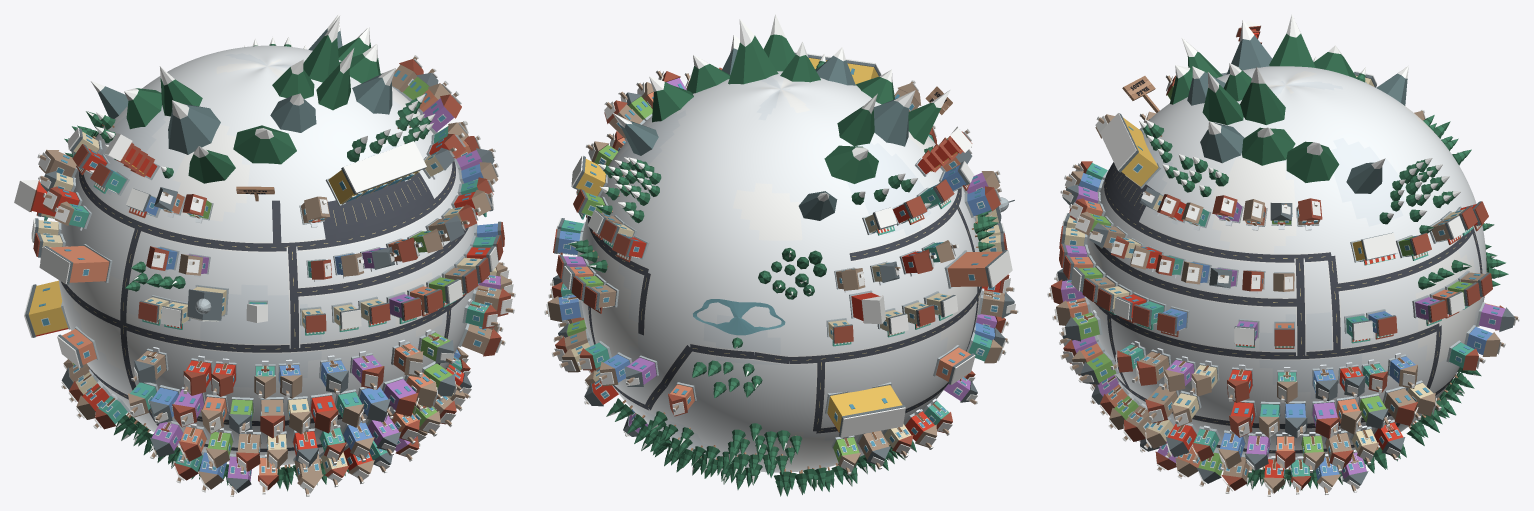
Rendered from southpark_planet.glb.
3 renders of one model, left to right at view 1: azimuth 30°, elevation 25°; view 2: azimuth 150°, elevation 25°; view 3: azimuth 270°, elevation 25°, orthographic. The views are drawn at different scales.
Parts seen in each view (by area): view 1: Planet_Surface_Snow, Road_North_Avenue, Mall_Curved_Parking, Road_Central_Avenue, SP_B067_Mall, SP_B064_Office, Mountain_04, Road_Infill_Main, SP_B063_School, Mountain_06, Road_Civic_Link, Mountain_14 (+92 smaller); view 2: Planet_Surface_Snow, SP_B063_School, Road_North_Avenue, SP_B064_Office, Road_Central_Avenue, Road_Back_Road, Mountain_14, Mountain_02, Mountain_04, West_Lake, SP_B068_Pagoda, Mountain_03 (+51 smaller); view 3: Planet_Surface_Snow, Road_North_Avenue, Road_Central_Avenue, SP_B067_Mall, Road_Infill_Main, Mountain_12, Mountain_14, Mountain_11, Mountain_10, Mall_Curved_Parking, Mountain_09, Mountain_03 (+88 smaller).
Boxes of the visible parts, x1,y1,x2,y2 form: Planet_Surface_Snow: (59,45,474,465); Road_North_Avenue: (78,161,456,252); Mall_Curved_Parking: (323,172,434,240); Road_Central_Avenue: (60,281,467,353); SP_B067_Mall: (325,141,426,206); SP_B064_Office: (39,244,112,284); Mountain_04: (168,100,220,154); Road_Infill_Main: (294,227,469,297); SP_B063_School: (24,280,70,337); Mountain_06: (233,125,296,164); Road_Civic_Link: (119,225,142,390); Mountain_14: (303,15,340,82); Planet_Surface_Snow: (580,71,981,472); SP_B063_School: (825,382,905,437); Road_North_Avenue: (587,160,962,335); SP_B064_Office: (944,250,1012,288); Road_Central_Avenue: (587,286,981,364); Road_Back_Road: (619,343,790,410); Mountain_14: (728,19,778,84); Mountain_02: (824,145,878,183); Mountain_04: (873,90,915,146); West_Lake: (693,299,785,335); SP_B068_Pagoda: (915,126,972,176); Mountain_03: (837,93,877,146); Planet_Surface_Snow: (1086,66,1486,467); Road_North_Avenue: (1103,169,1482,292); Road_Central_Avenue: (1094,302,1442,389); SP_B067_Mall: (1100,113,1160,188); Road_Infill_Main: (1090,235,1300,307); Mountain_12: (1286,141,1339,182); Mountain_14: (1240,66,1285,124); Mountain_11: (1242,127,1295,165); Mountain_10: (1200,121,1244,163); Mall_Curved_Parking: (1107,162,1154,222); Mountain_09: (1202,71,1243,125); Mountain_03: (1269,14,1315,67).
Size of the model in its own units: 52.86 by 51.23 by 51.69.
